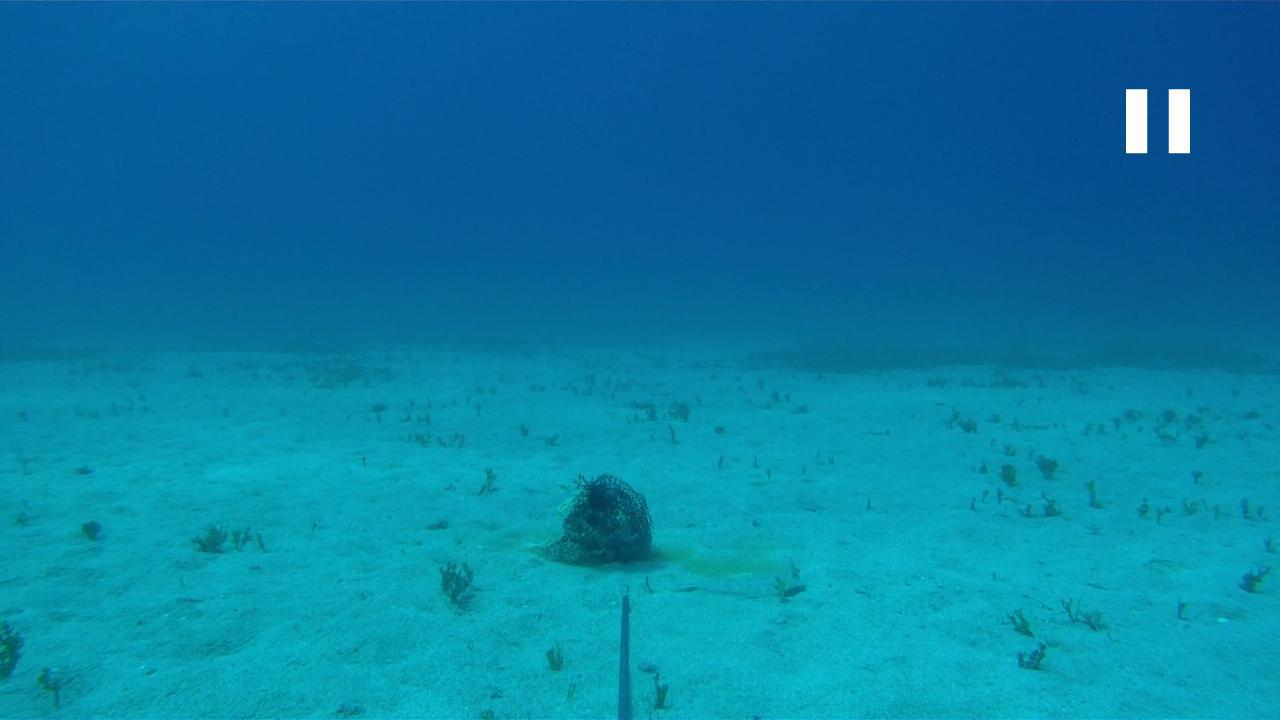bothus: (658, 565, 807, 601)
